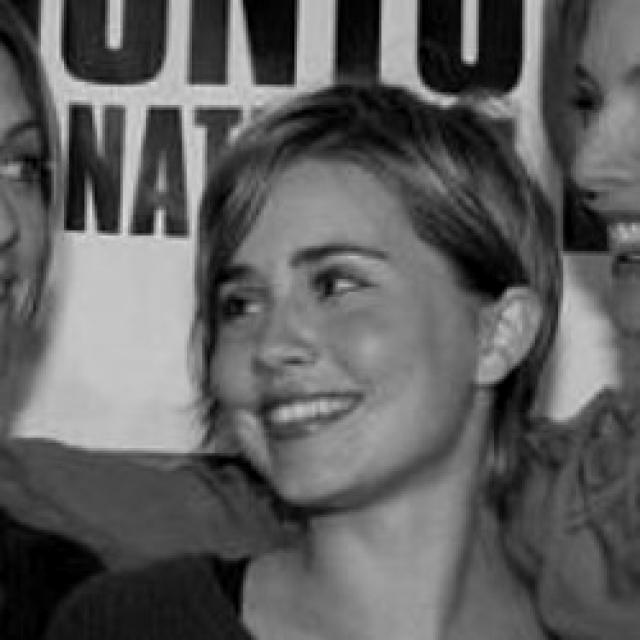real: (210, 168, 467, 504), (211, 245, 381, 329)
